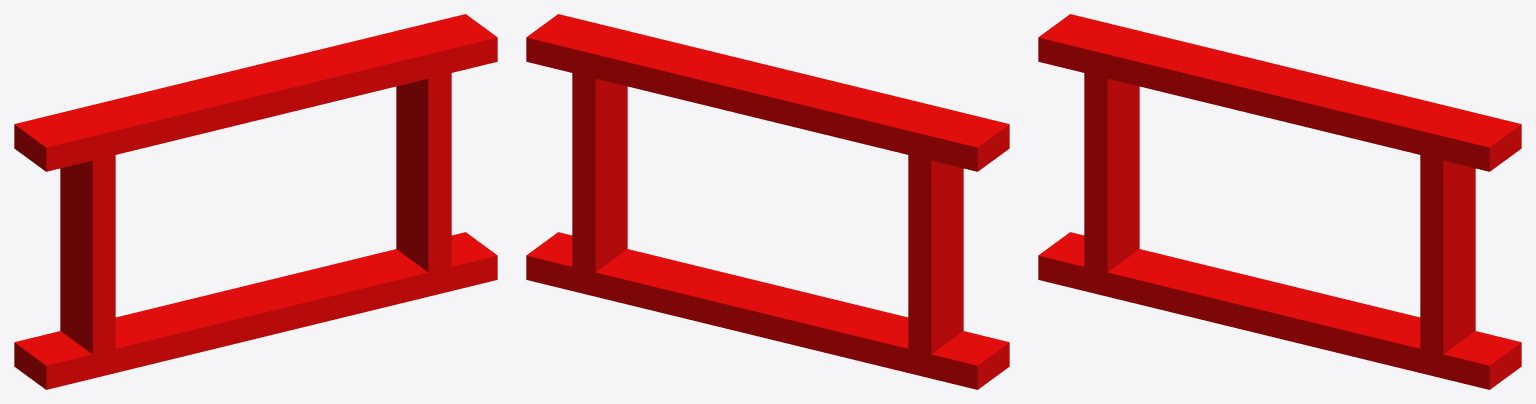
File: Bouven 1.fbx
3 views of the same model, side by side, from view 1: azimuth 30°, elevation 25°; view 2: azimuth 150°, elevation 25°; view 3: azimuth 330°, elevation 25° (orthographic).
Parts seen in each view (by area): view 1: Group1; view 2: Group1; view 3: Group1.
Boxes of the visible parts, left/top/right/bottom form: Group1: left=14, top=14, right=497, bottom=389; Group1: left=526, top=14, right=1009, bottom=389; Group1: left=1038, top=14, right=1521, bottom=389.
Bounding box in the file's own units: 0.975 × 0.5 × 0.12.
